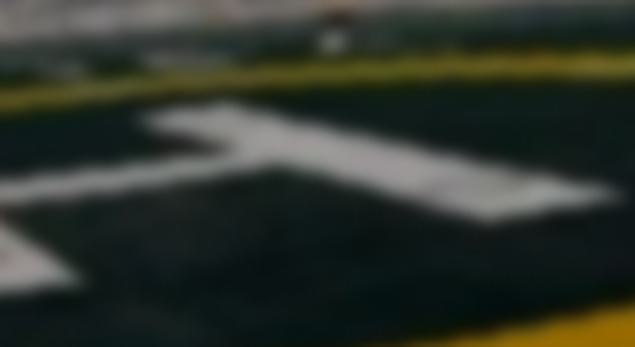Apron: (5, 45, 635, 347)
